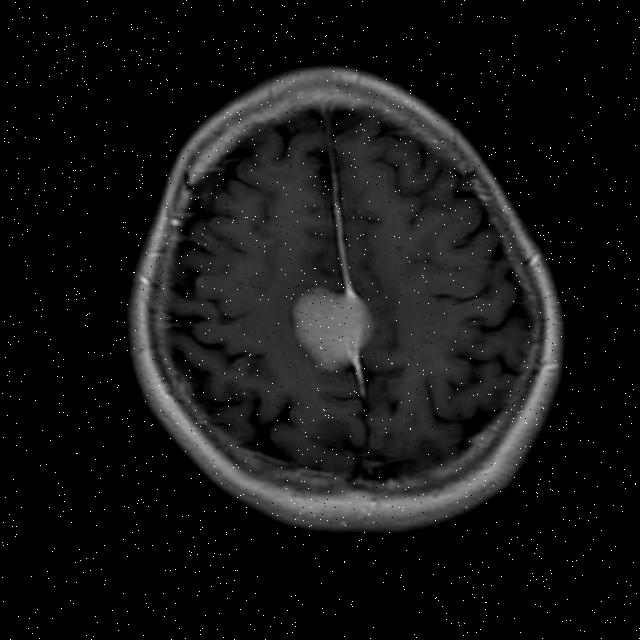Meningioma: (284, 283, 383, 398)
